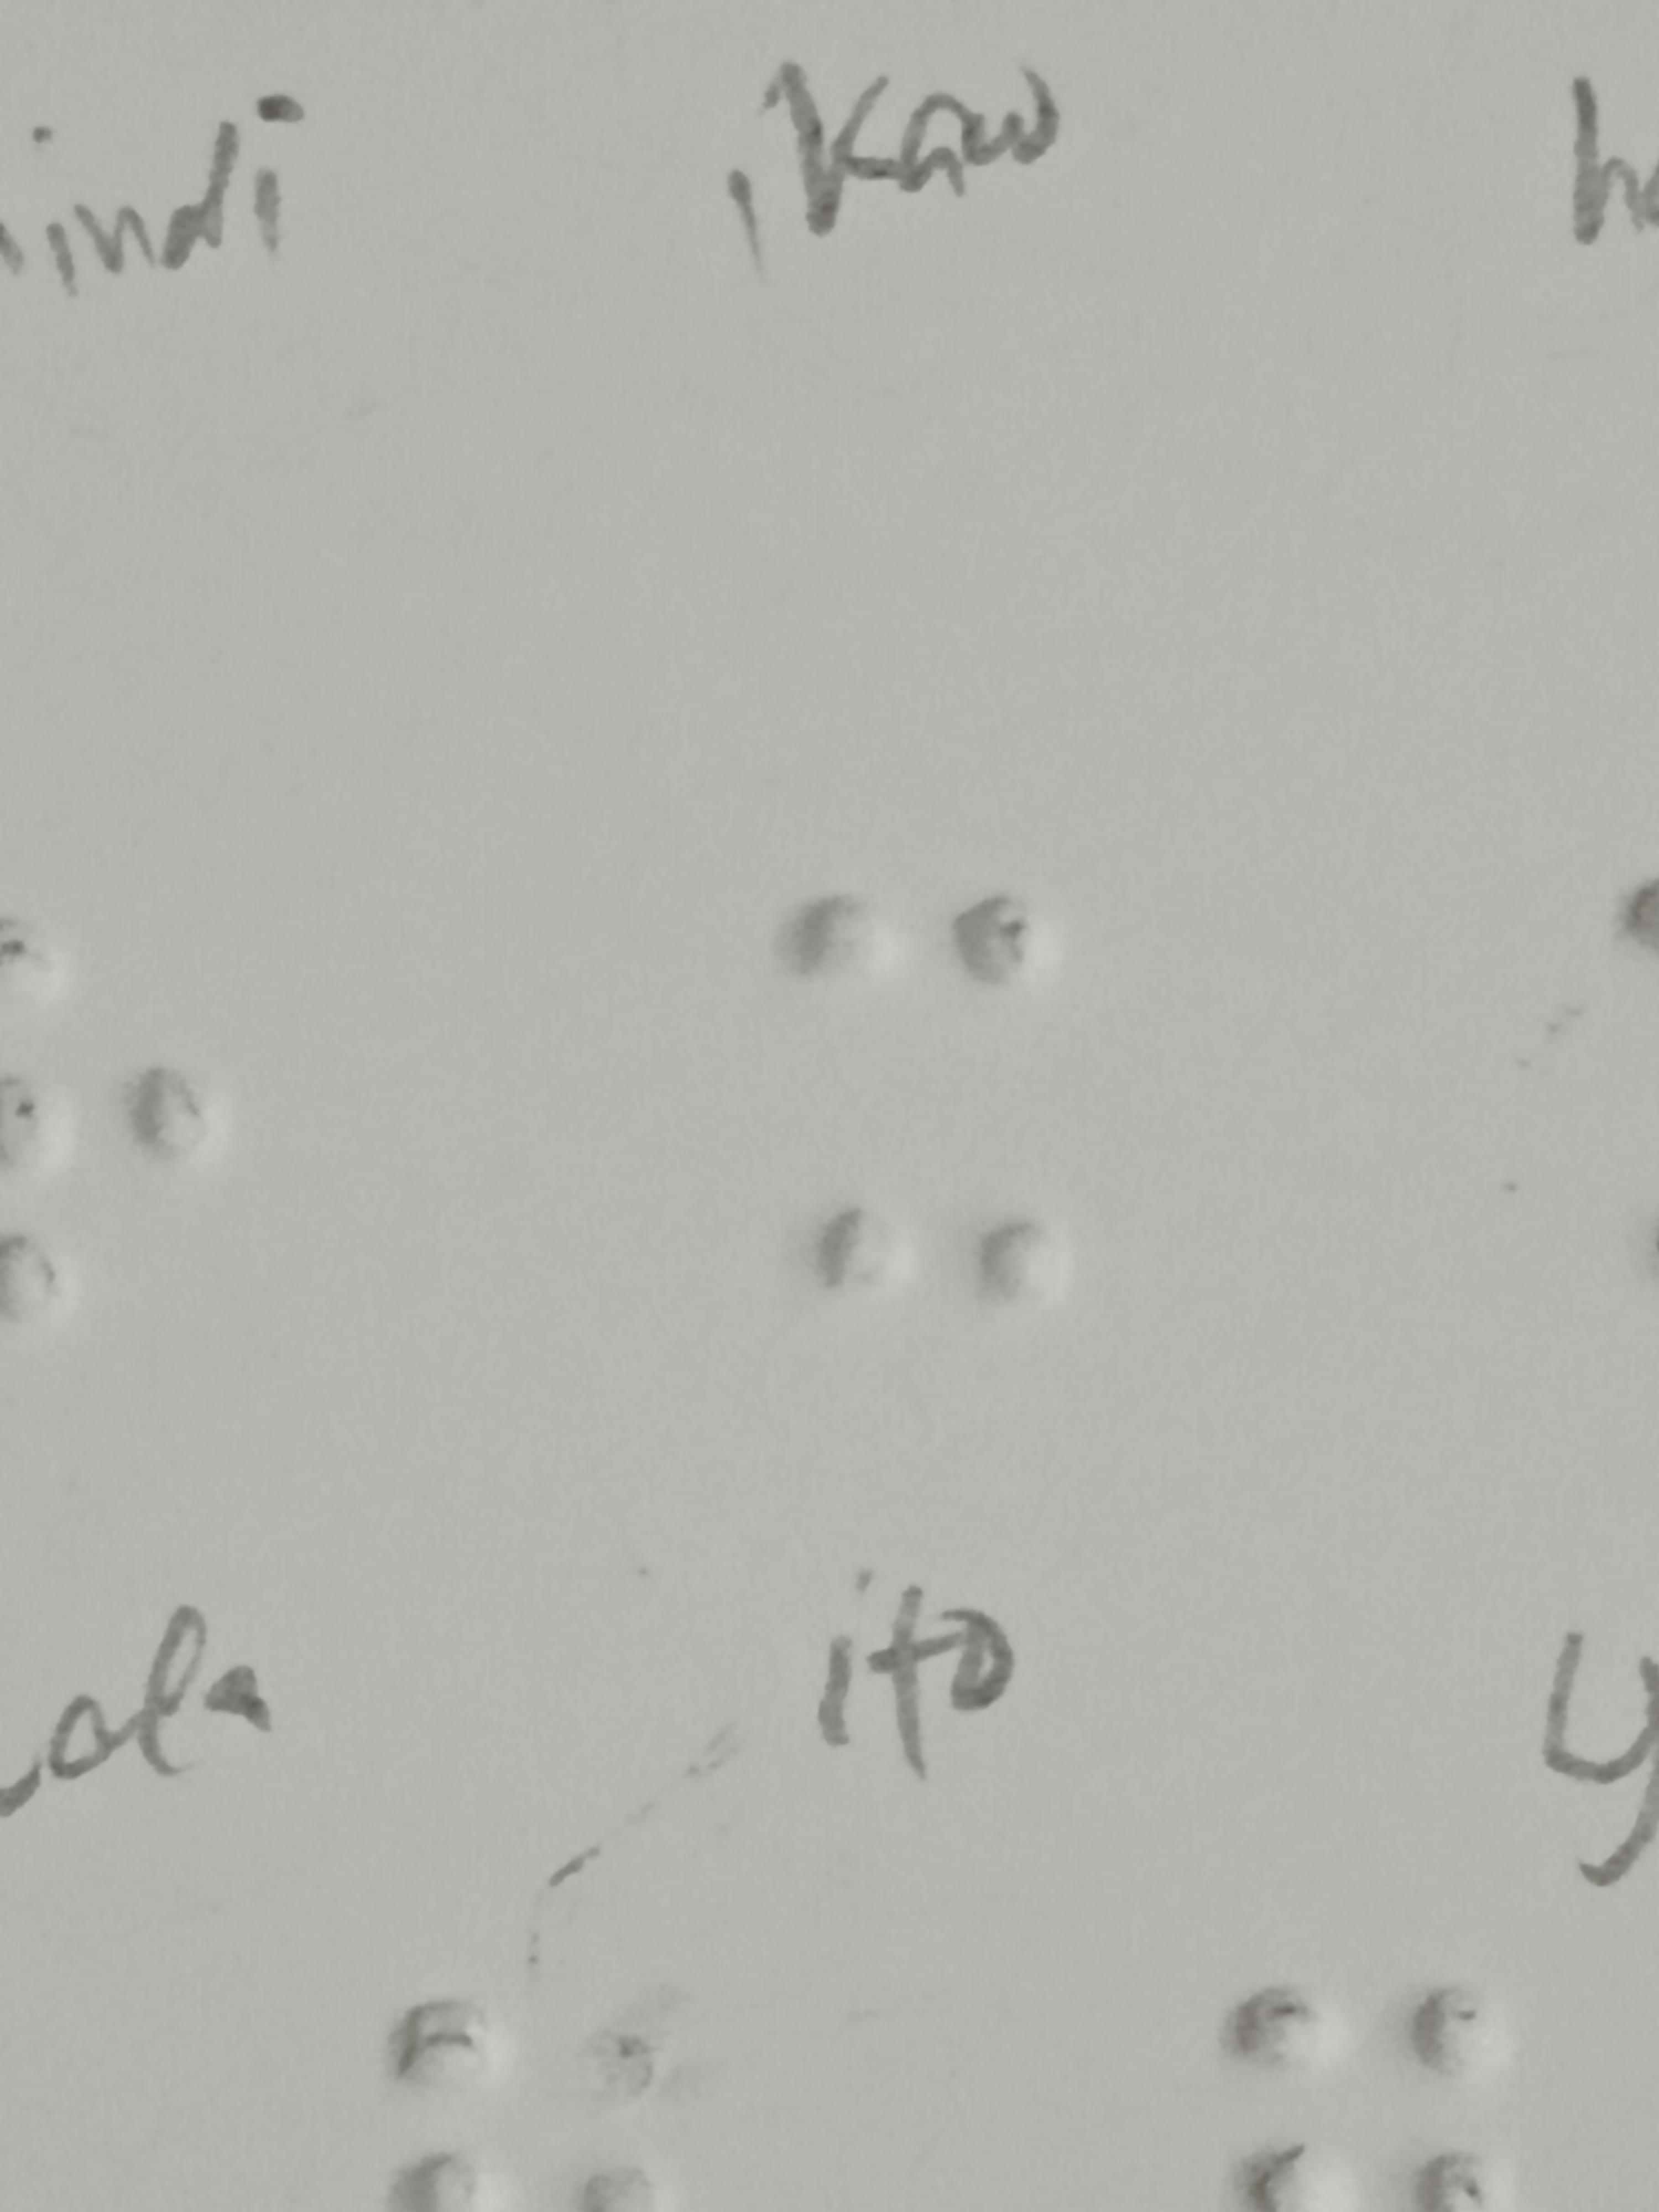one_cell_alphabet_ito: (775, 874, 1063, 1317)
